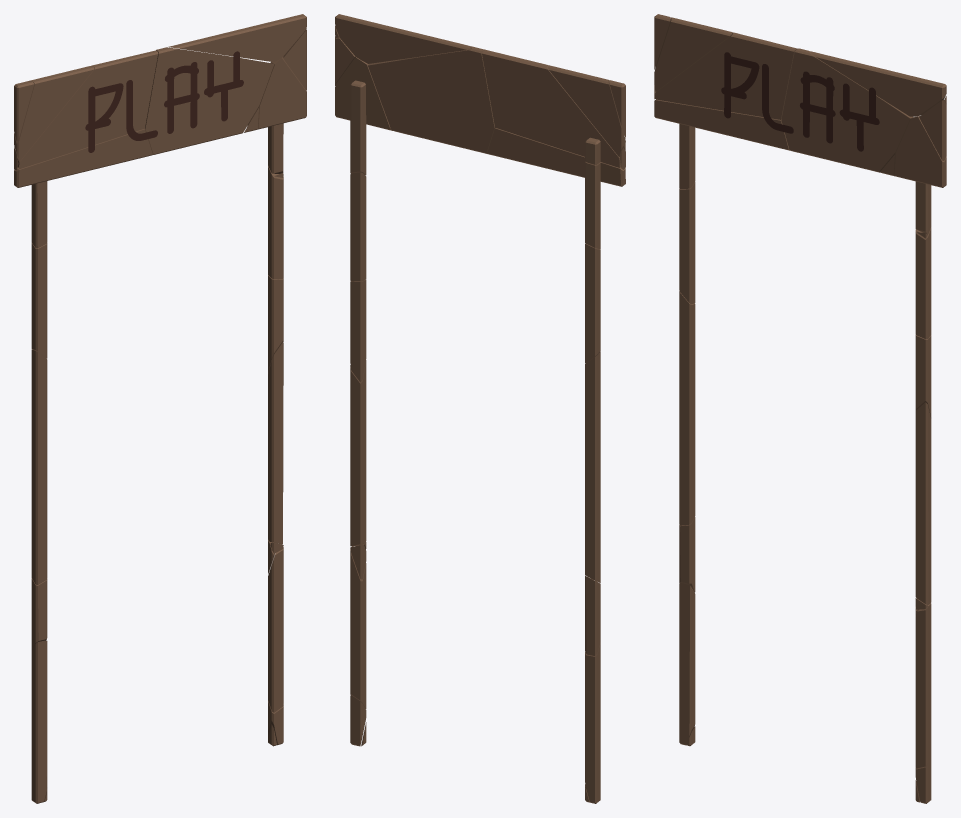
The model's file is bsign-play.fbx.
The picture shows the model from 3 angles, left to right: view 1: azimuth 30°, elevation 25°; view 2: azimuth 150°, elevation 25°; view 3: azimuth 330°, elevation 25°; orthographic projection.
Visible parts, largest first — view 1: sign_play01.002_cell.029, sign_play01.002_cell.024, sign_play01.002_cell.025, sign_play01.002_cell.027, sign_play01.002_cell.019, sign_play01.002_cell.008, sign_play01.002_cell.009, sign_play01.002_cell.033, sign_play01.002_cell.020, sign_play01.002_cell.005, sign_play01.002_cell.035, sign_play01.002_cell.003 (+4 smaller); view 2: sign_play01.002_cell.029, sign_play01.002_cell.024, sign_play01.002_cell.025, sign_play01.002_cell.027, sign_play01.002_cell.019, sign_play01.002_cell.008, sign_play01.002_cell.009, sign_play01.002_cell.033, sign_play01.002_cell.020, sign_play01.002_cell.005, sign_play01.002_cell.003, sign_play01.002_cell.035 (+5 smaller); view 3: sign_play01.002_cell.029, sign_play01.002_cell.024, sign_play01.002_cell.025, sign_play01.002_cell.027, sign_play01.002_cell.019, sign_play01.002_cell.009, sign_play01.002_cell.008, sign_play01.002_cell.033, sign_play01.002_cell.005, sign_play01.002_cell.020, sign_play01.002_cell.035, sign_play01.002_cell.003 (+5 smaller).
Part boxes in pixels (x1,y1,x2,y2): sign_play01.002_cell.029: (145,47,274,154); sign_play01.002_cell.024: (17,50,157,168); sign_play01.002_cell.025: (14,129,152,248); sign_play01.002_cell.027: (31,349,47,584); sign_play01.002_cell.019: (168,14,306,61); sign_play01.002_cell.008: (247,57,306,173); sign_play01.002_cell.009: (268,342,283,544); sign_play01.002_cell.033: (14,66,93,161); sign_play01.002_cell.020: (31,640,47,803); sign_play01.002_cell.005: (268,544,283,712); sign_play01.002_cell.035: (31,242,47,358); sign_play01.002_cell.003: (268,166,283,279); sign_play01.002_cell.029: (368,46,495,153); sign_play01.002_cell.024: (482,49,620,167); sign_play01.002_cell.025: (487,128,625,248); sign_play01.002_cell.027: (585,351,600,582); sign_play01.002_cell.019: (335,14,470,63); sign_play01.002_cell.008: (335,57,390,175); sign_play01.002_cell.009: (350,360,366,546); sign_play01.002_cell.033: (547,65,625,157); sign_play01.002_cell.020: (585,643,600,803); sign_play01.002_cell.005: (350,546,366,708); sign_play01.002_cell.003: (350,172,366,281); sign_play01.002_cell.035: (585,243,600,363); sign_play01.002_cell.029: (781,48,913,172); sign_play01.002_cell.024: (654,32,797,133); sign_play01.002_cell.025: (654,99,789,188); sign_play01.002_cell.027: (679,291,695,525); sign_play01.002_cell.019: (810,51,946,116); sign_play01.002_cell.009: (915,402,931,604); sign_play01.002_cell.008: (893,116,946,234); sign_play01.002_cell.033: (654,17,732,91); sign_play01.002_cell.005: (915,603,931,768); sign_play01.002_cell.020: (679,582,695,745); sign_play01.002_cell.035: (679,182,695,304); sign_play01.002_cell.003: (915,227,931,339).
Bounding box in the file's own units: 92.94 × 222 × 4.88.
